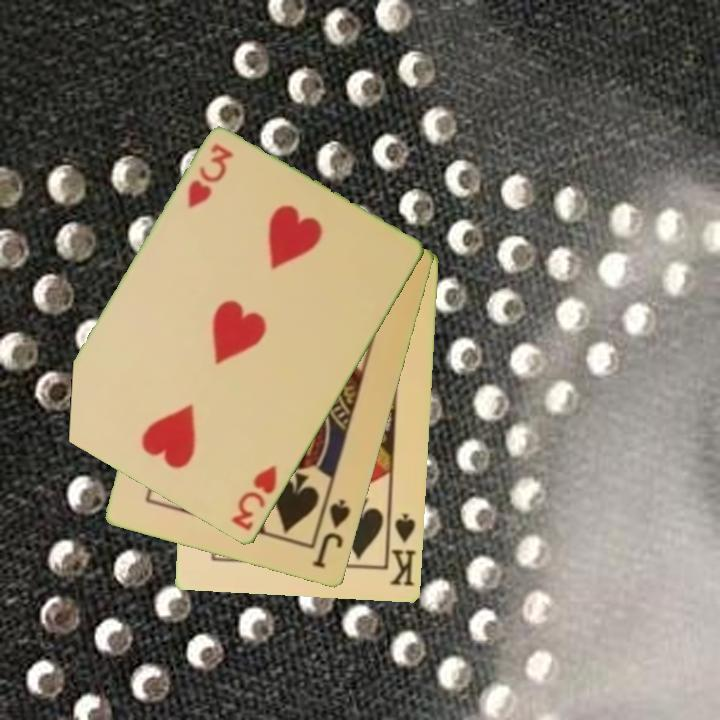3h: (228, 462, 281, 535), (184, 141, 237, 212)
Js: (309, 496, 354, 572)
Ks: (384, 507, 420, 590)
